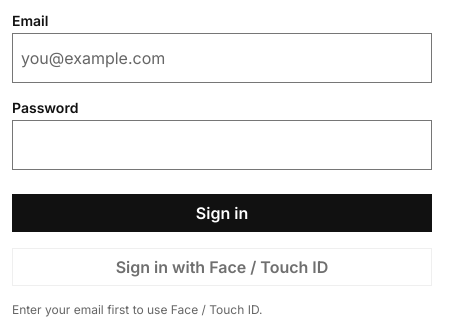
it: LoginForm › maps a passkey 401 to ceremony copy that never says "password"
Type "a@b.com" into the field with placeholder "you@example.com". click: (222, 58)
box: [12,33,432,83]
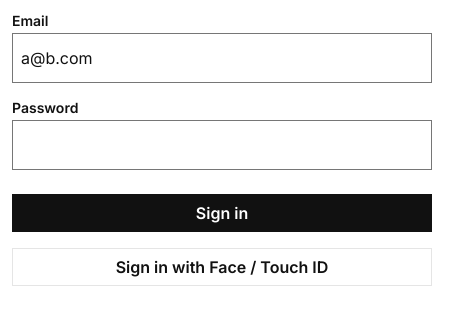
Click the button "Sign in with Face / Touch ID". click: click(222, 267)
box: [12,248,432,286]
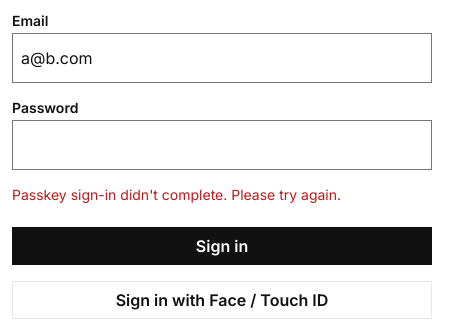
expect the message does not show "password": met, box [12,186,341,203]
expect the message shows "Passkey sign-in didn't complete": met, box [12,186,341,203]
